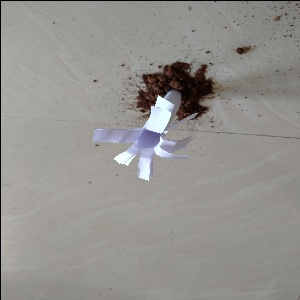weed: (97, 80, 197, 177)
